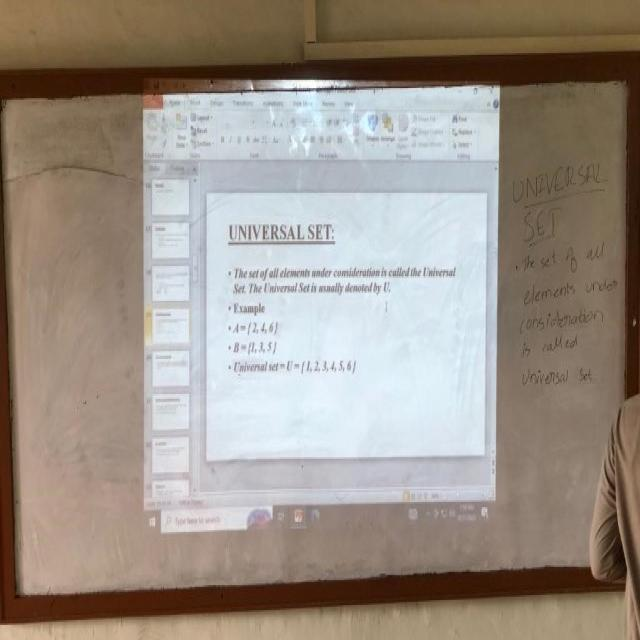Slide: (144, 76, 499, 538)
White-board: (0, 64, 635, 617)
